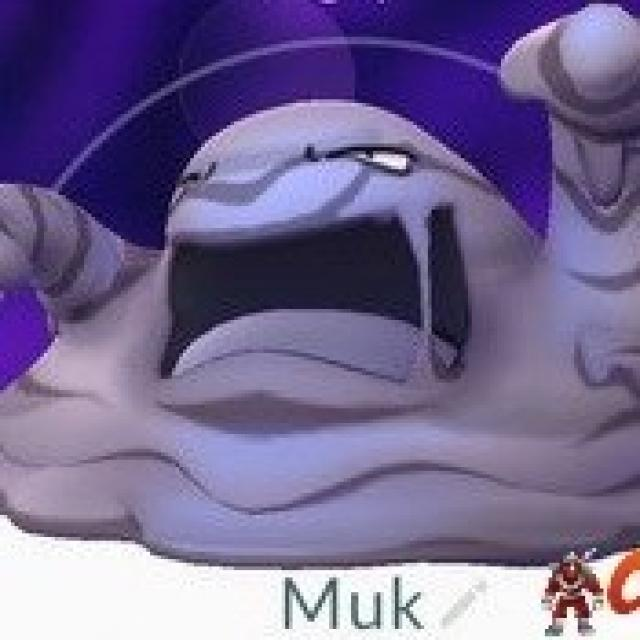Muk: (27, 101, 640, 552)
